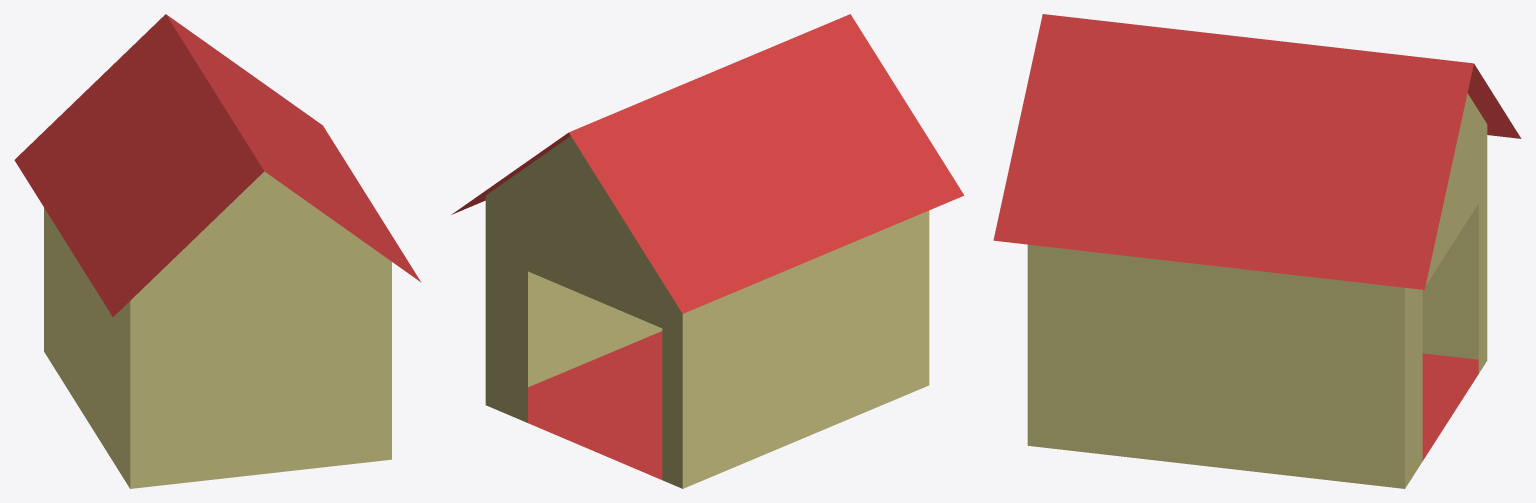
3 renders of one model, left to right at view 1: azimuth 30°, elevation 25°; view 2: azimuth 150°, elevation 25°; view 3: azimuth 270°, elevation 25°, orthographic. The views are drawn at different scales.
Size of the model in its own units: 12.7 by 14.15 by 10.73.
